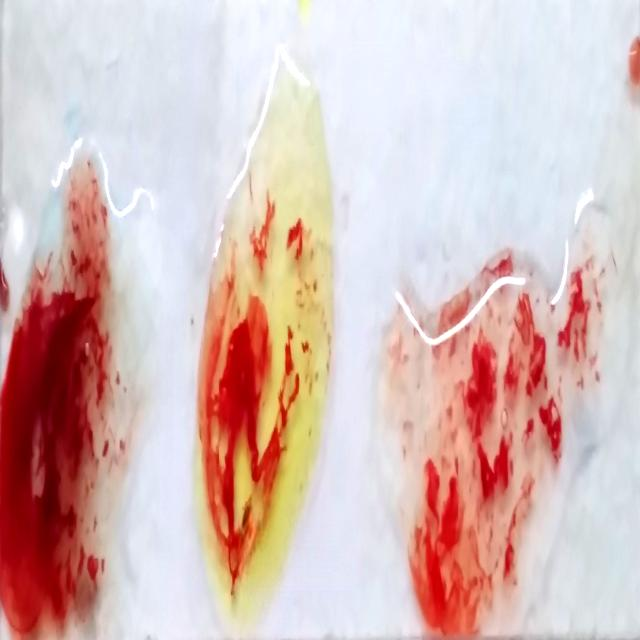A: (1, 155, 116, 631)
B: (202, 80, 326, 604)
D: (391, 266, 584, 640)
